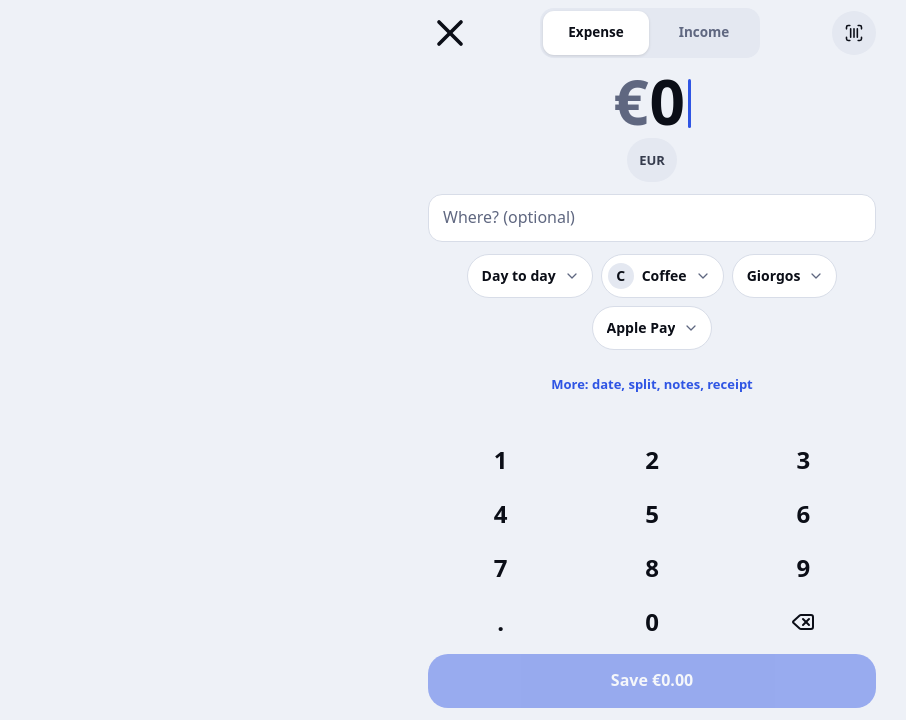
it: nothing ticked: no prompt
Click the button "3": (803, 460) top-left (731, 436), bottom-right (876, 484)
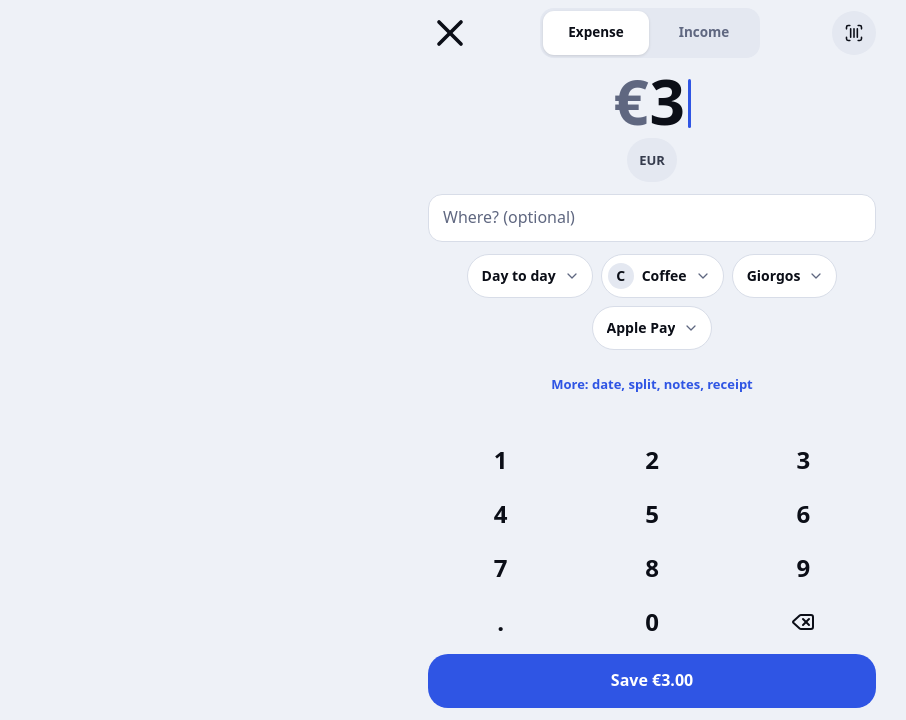
Click the button with aria-label "Save 3 euro to Day to day": (652, 681) top-left (428, 654), bottom-right (876, 708)
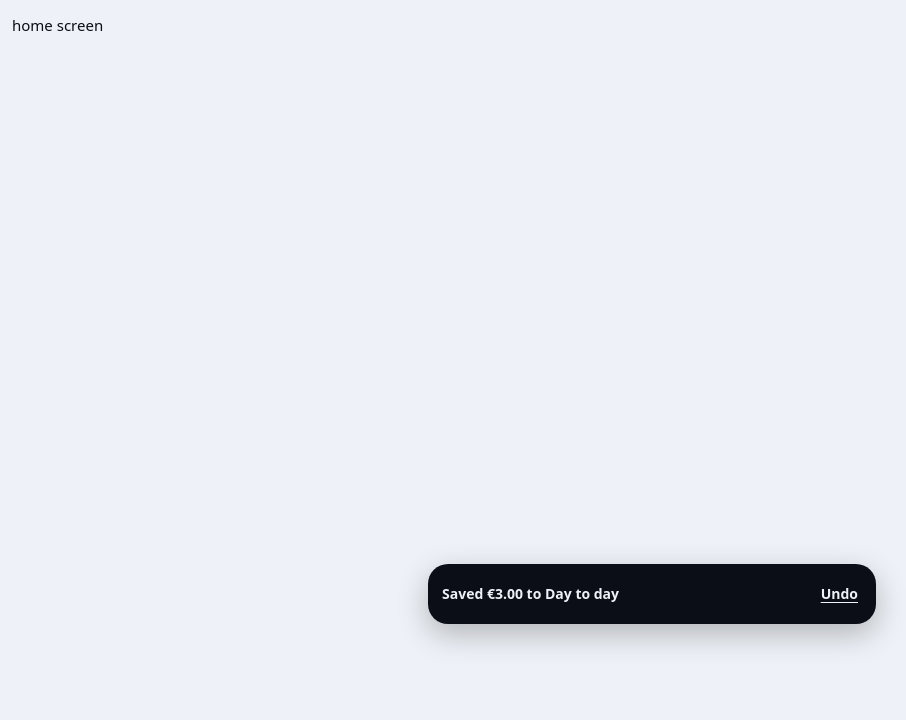
Result: the text "home screen" is shown at top-left (12, 15), bottom-right (103, 35)
